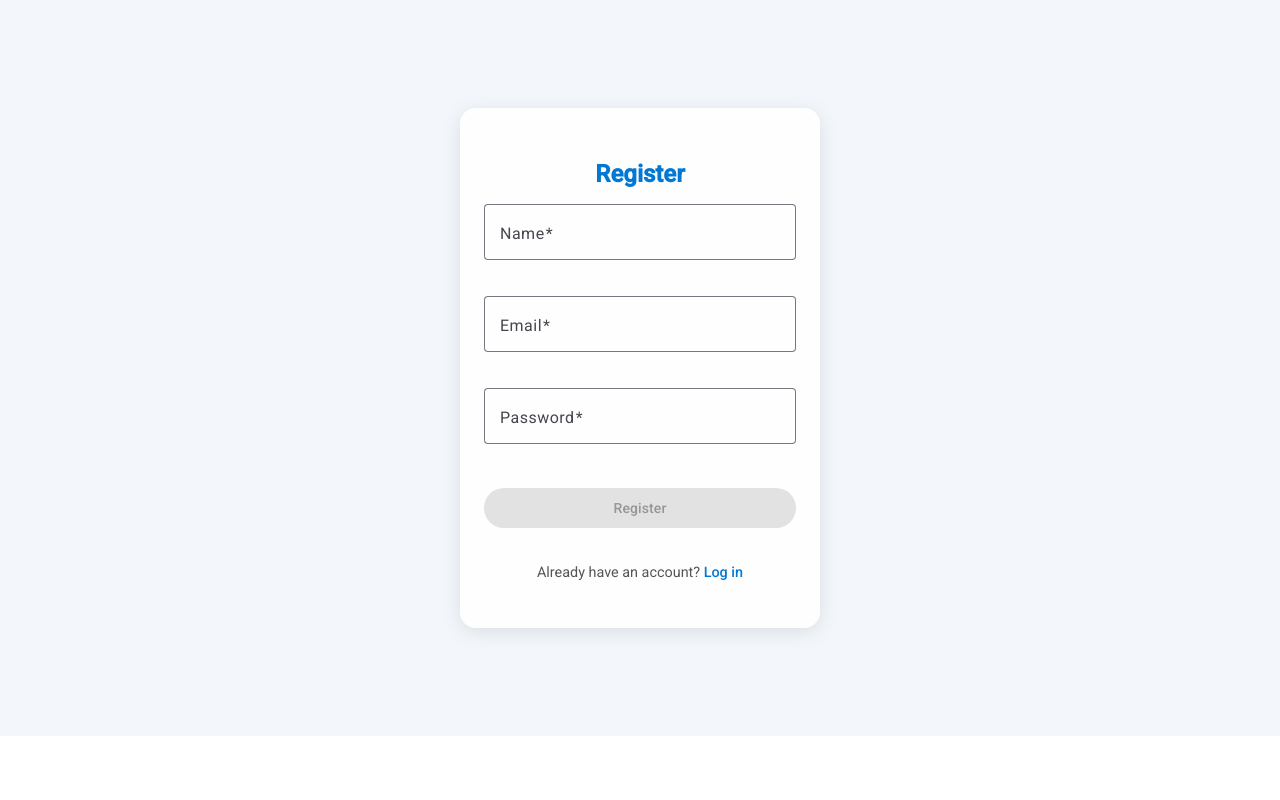
Test: Usuario — Validaciones de UI › F01 · Registrar estudiante › Dado datos mal formados, entonces ve el error de nombre y el de correo
Step 1. Type "12345" into the field named "name" → (640, 232), box [500,220,780,244]
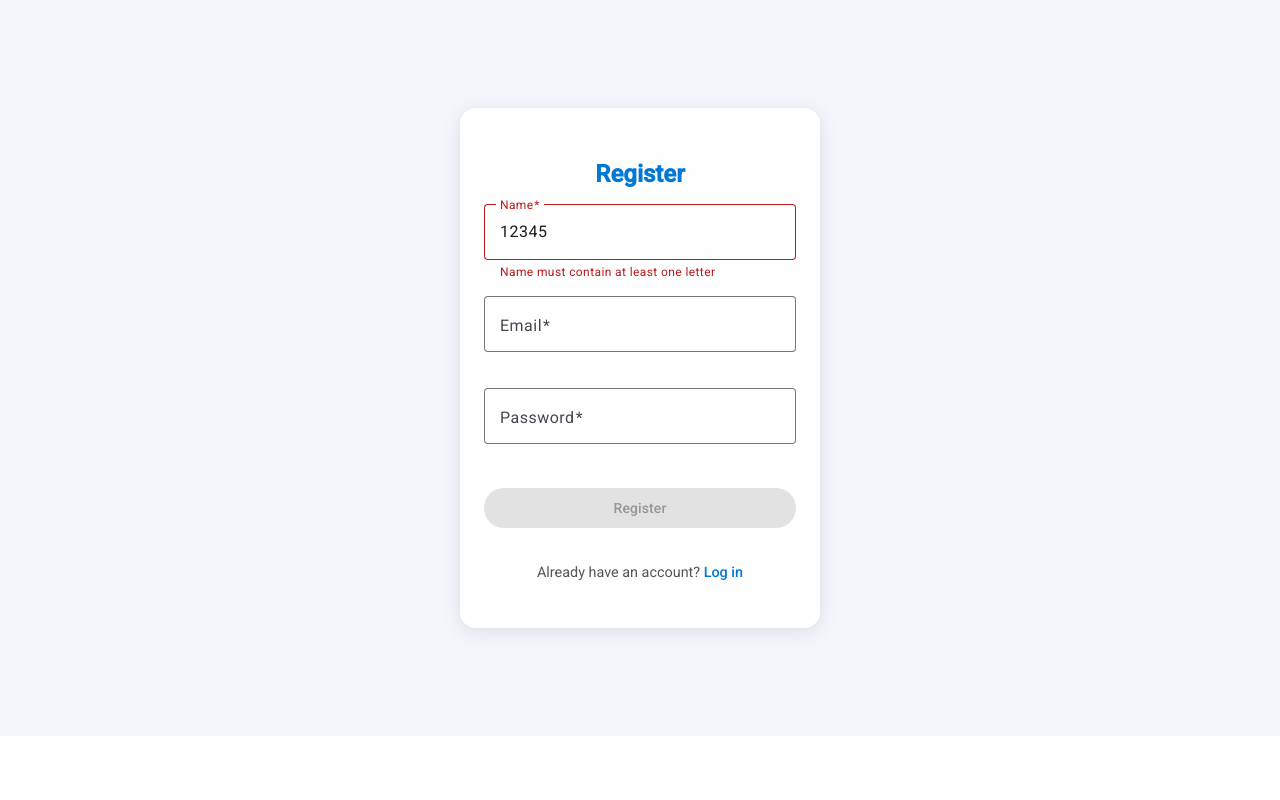
Step 2. Type "no-es-email" into the field named "email" → (640, 324), box [500,312,780,336]
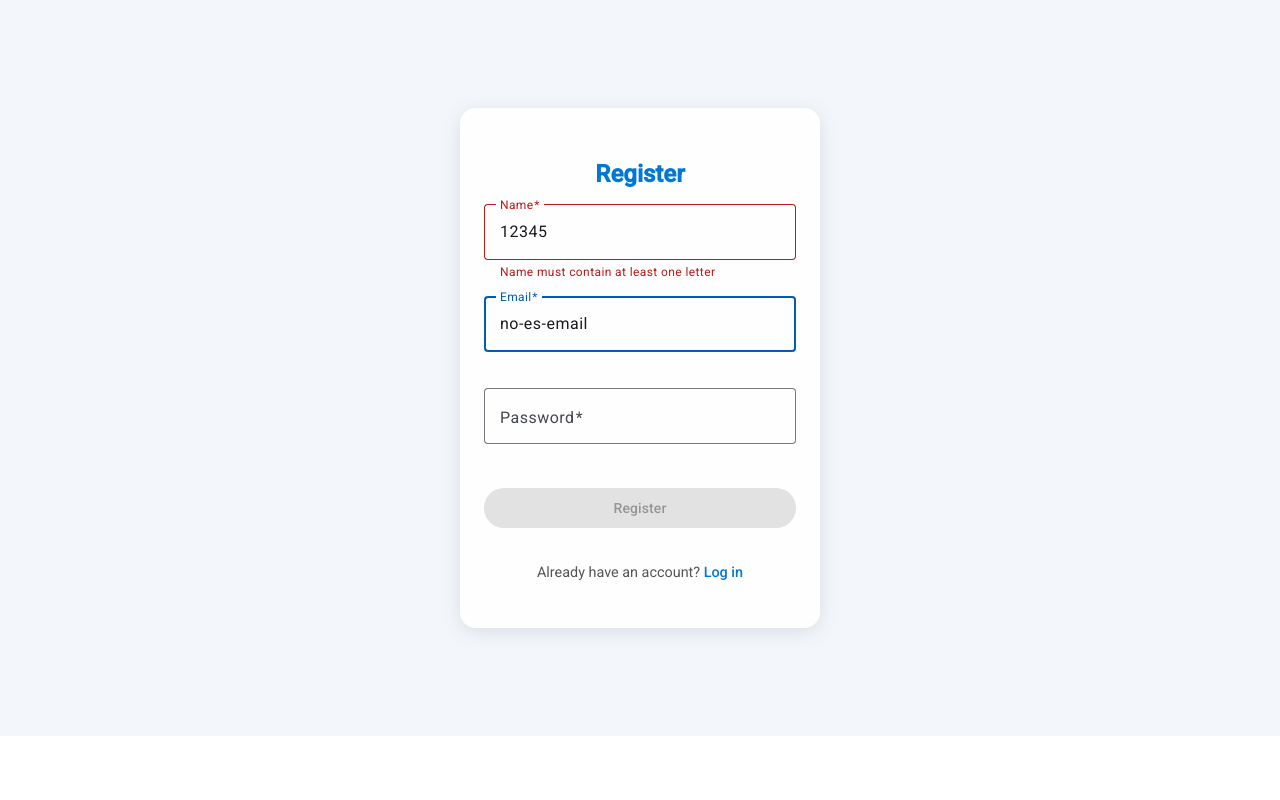
Step 3. Leave the field named "email", box [500,312,780,336]
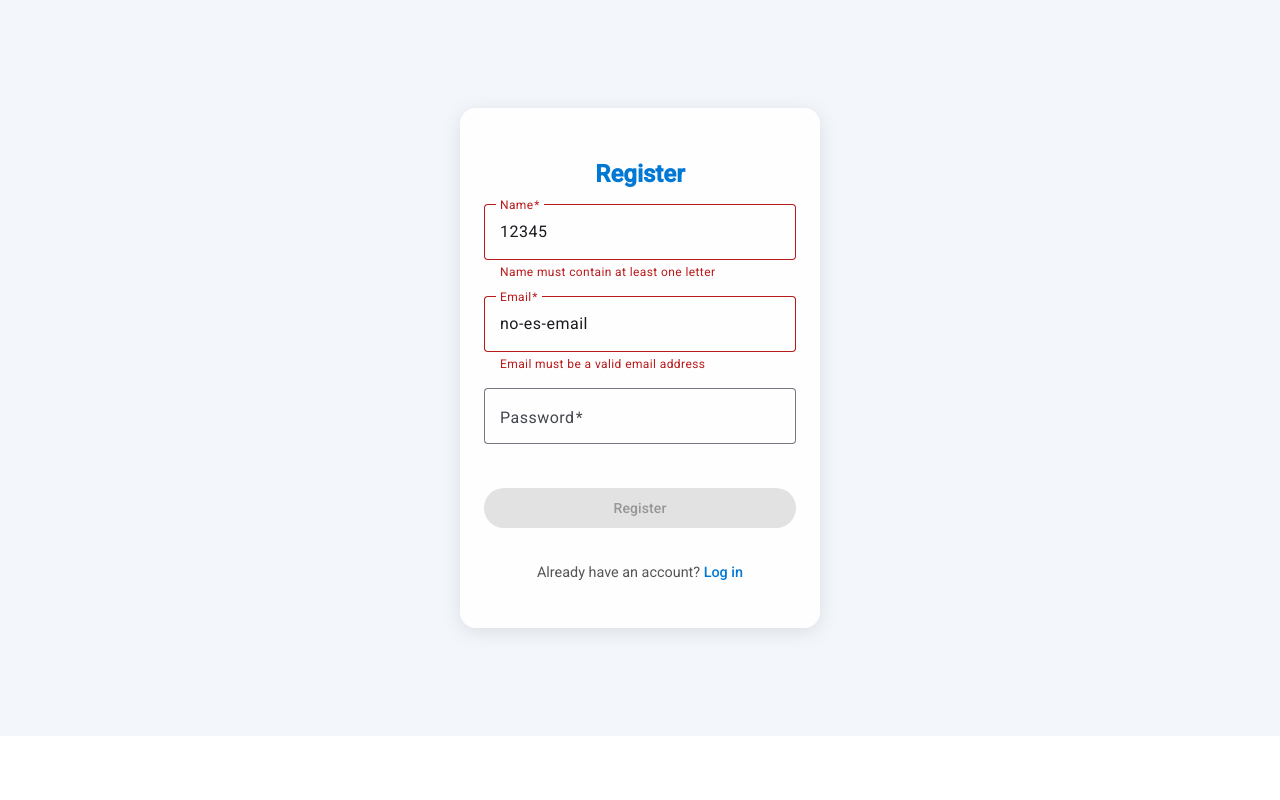
Expected: the submit button is disabled, [484,488,796,528]
Result: the text "Name must contain at least one letter" is shown at [500,265,715,279]
Result: the text "Email must be a valid email address" is shown at [500,357,705,371]
